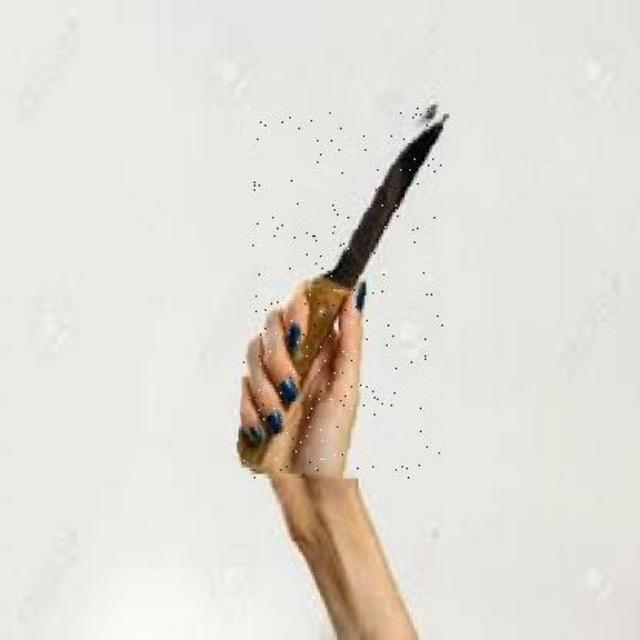Knife: (242, 106, 442, 478)
